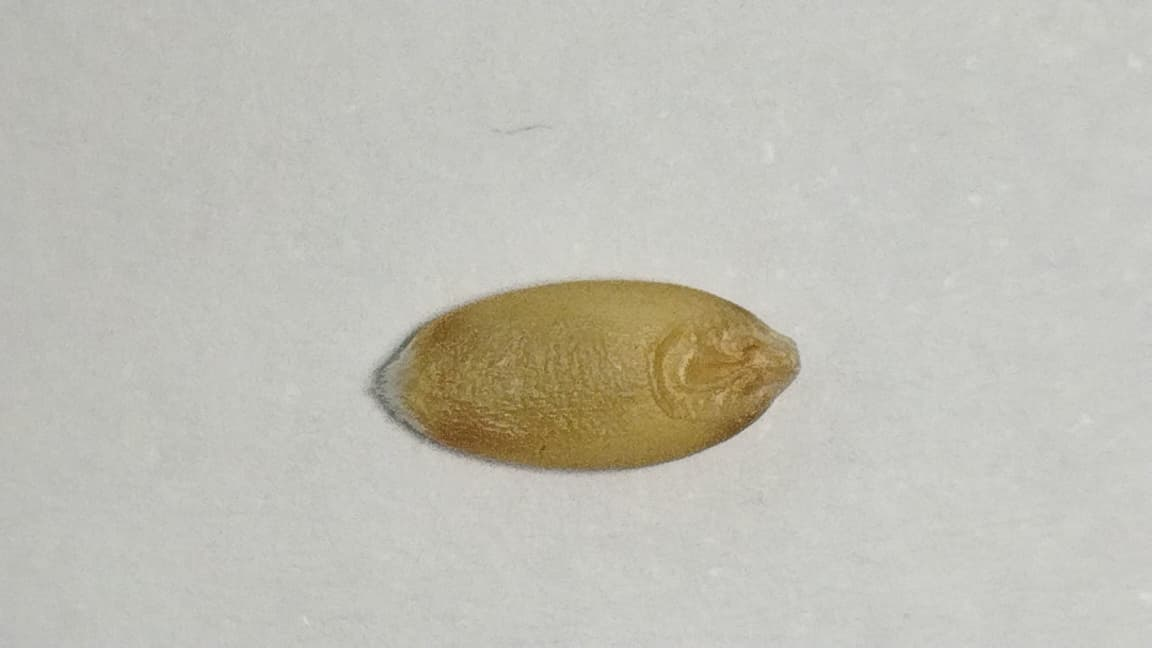healthy: (397, 280, 798, 460)
